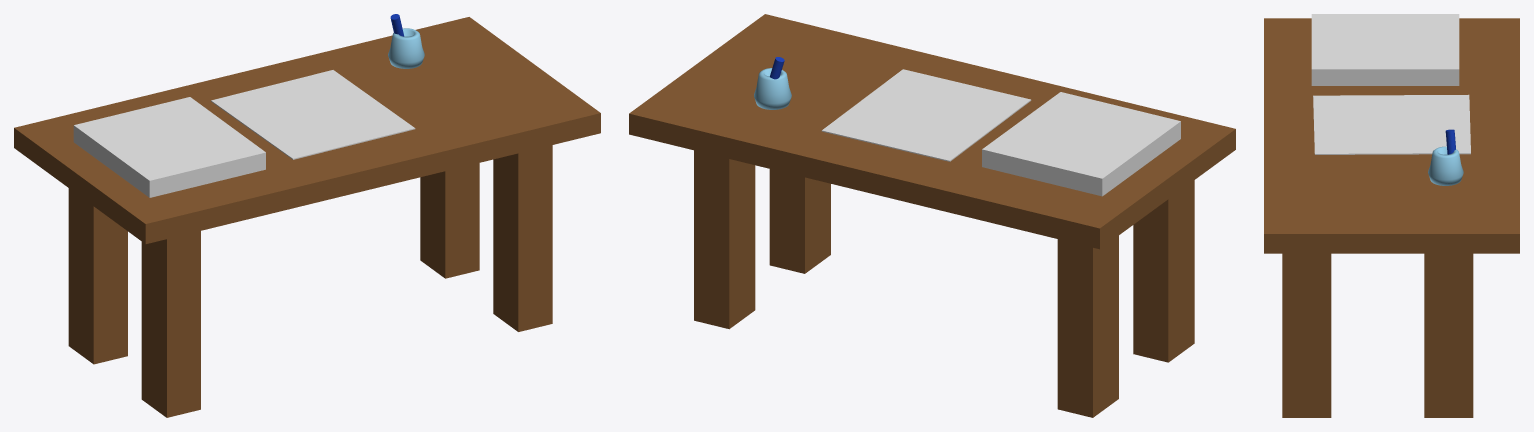
Rendered from SigningTable 1.fbx.
3 views of the same model, side by side, from view 1: azimuth 30°, elevation 25°; view 2: azimuth 150°, elevation 25°; view 3: azimuth 270°, elevation 25° (orthographic). The views are drawn at different scales.
Parts seen in each view (by area): view 1: Cube, Cube.001, Cube.003, Cube.002, Cylinder; view 2: Cube, Cube.001, Cube.003, Cube.002, Cylinder; view 3: Cube, Cube.001, Cube.003, Cube.002, Cylinder.
Boxes of the visible parts, x1,y1,x2,y2 form: Cube: [14, 17, 600, 244]; Cube.001: [68, 145, 552, 417]; Cube.003: [73, 97, 265, 197]; Cube.002: [211, 70, 415, 159]; Cylinder: [388, 28, 424, 68]; Cube: [629, 14, 1235, 249]; Cube.001: [694, 150, 1194, 417]; Cube.003: [982, 92, 1180, 196]; Cube.002: [821, 69, 1031, 161]; Cylinder: [754, 68, 791, 109]; Cube: [1264, 18, 1519, 253]; Cube.001: [1282, 253, 1473, 417]; Cube.003: [1311, 14, 1459, 85]; Cube.002: [1313, 94, 1470, 154]; Cylinder: [1428, 146, 1463, 185].
Size of the model in its own units: 640 by 352 by 320.
